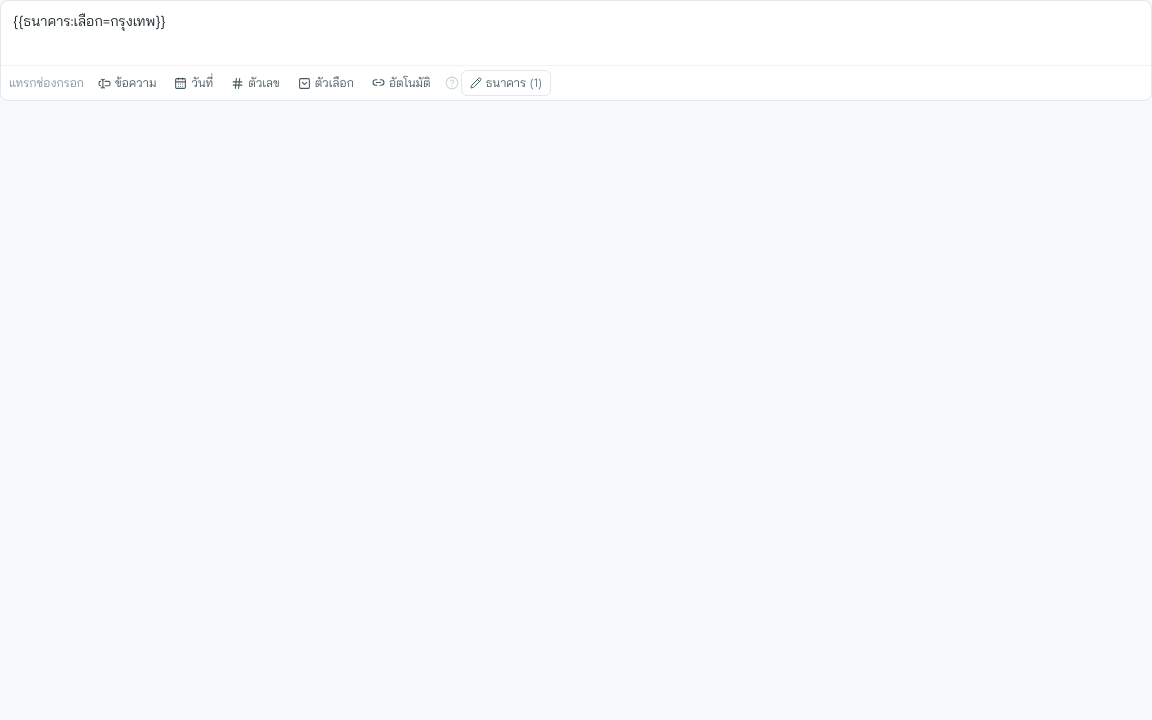
Test: TemplateTextarea › with the cursor inside a dropdown, the dropdown button edits that one
Click the button with aria-label "แทรกช่องตัวเลือก" at (326, 83), box [290,71,362,95]
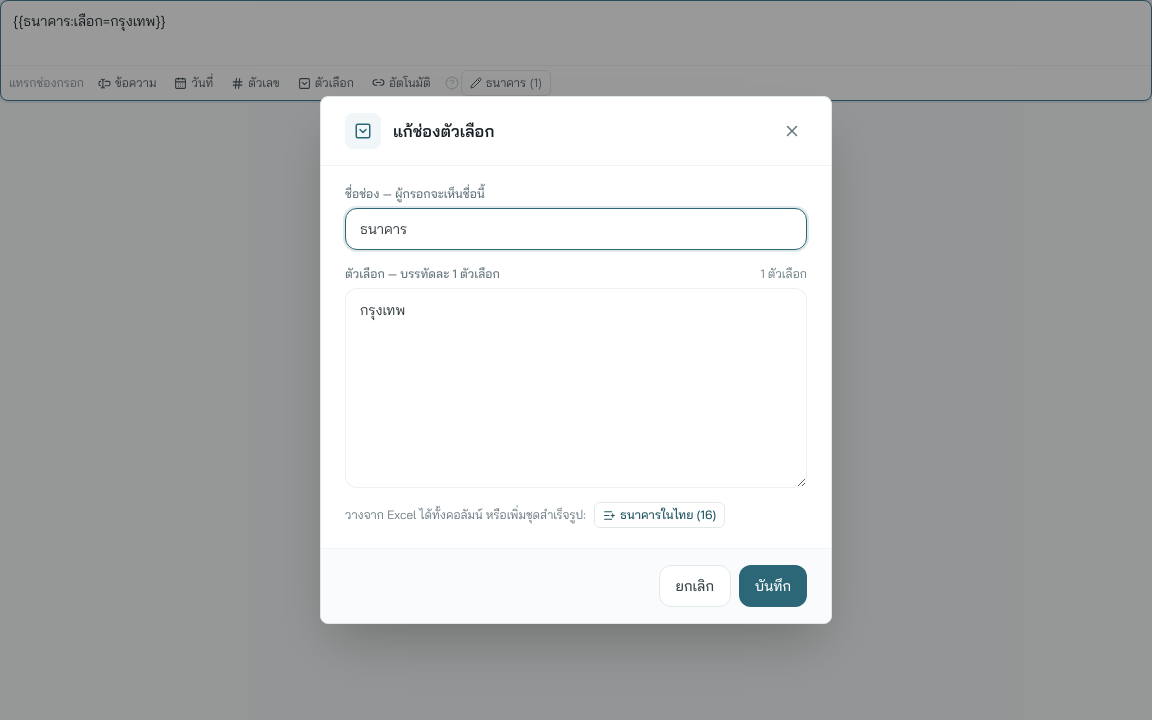
Expected: the dialog "แก้ช่องตัวเลือก" is shown, [320,96,832,624]
